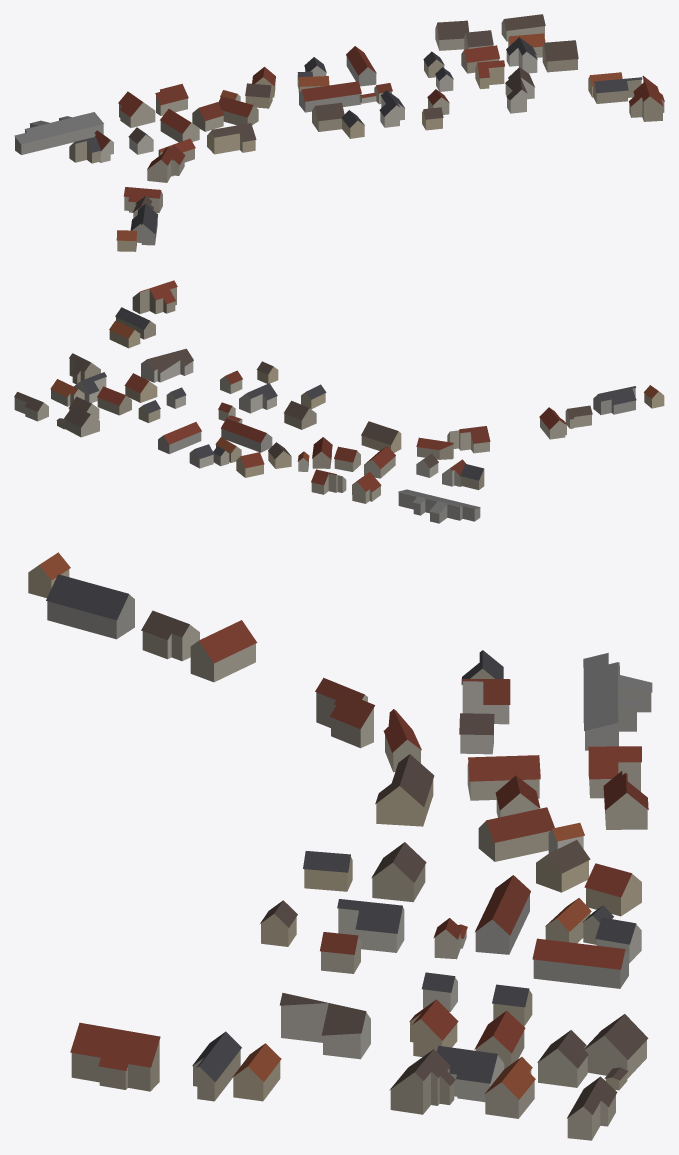
The picture shows the model from 3 angles, top to bottom: view 1: azimuth 30°, elevation 25°; view 2: azimuth 150°, elevation 25°; view 3: azimuth 270°, elevation 25°; orthographic projection. The views are drawn at different scales.
Parts seen in each view (by area): view 1: buildings; view 2: buildings; view 3: buildings.
Boxes of the visible parts, x1,y1,x2,y2 form: buildings: (14, 14, 664, 251); buildings: (14, 280, 664, 523); buildings: (28, 552, 652, 1140).
Bounding box in the file's own units: 320 × 27.77 × 168.
